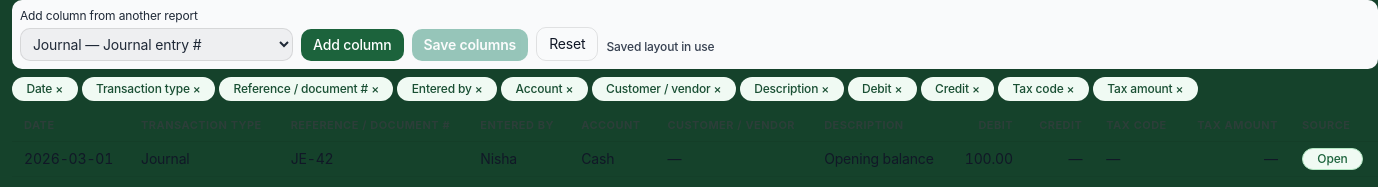
Test: customizable transaction detail sheet › keeps an added column out of storage until it is saved
Click the button "Add column".
click(352, 45)  # box [301,29,404,61]
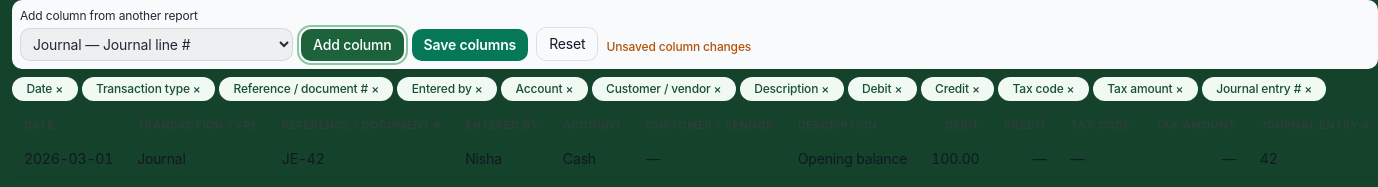
Expected: the text "Unsaved column changes" is shown, [606,39,751,61]
Click the button "Save columns".
click(470, 45)  # box [412,29,528,61]
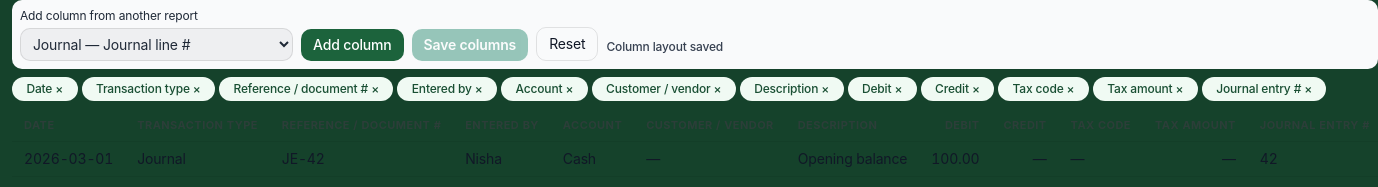
Expected: the text "Column layout saved" is shown, [606,39,723,61]
